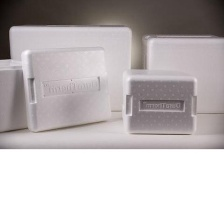foam_box: (5, 19, 135, 117), (12, 44, 115, 135), (137, 28, 224, 117), (117, 66, 204, 136), (0, 55, 30, 136)
